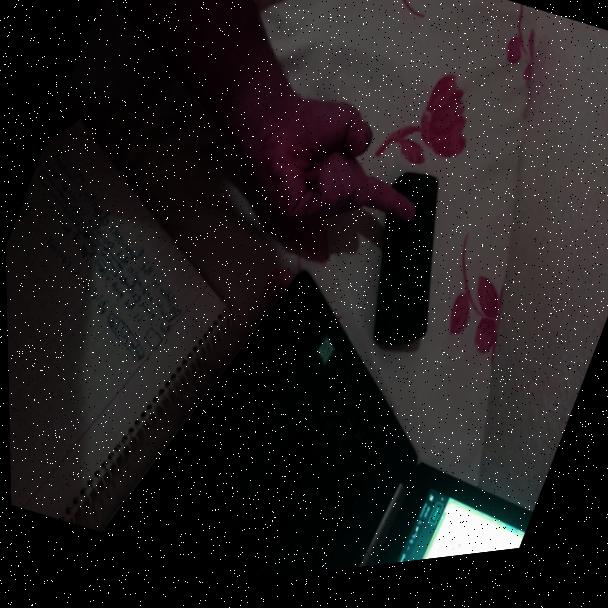one: (200, 49, 456, 298)
